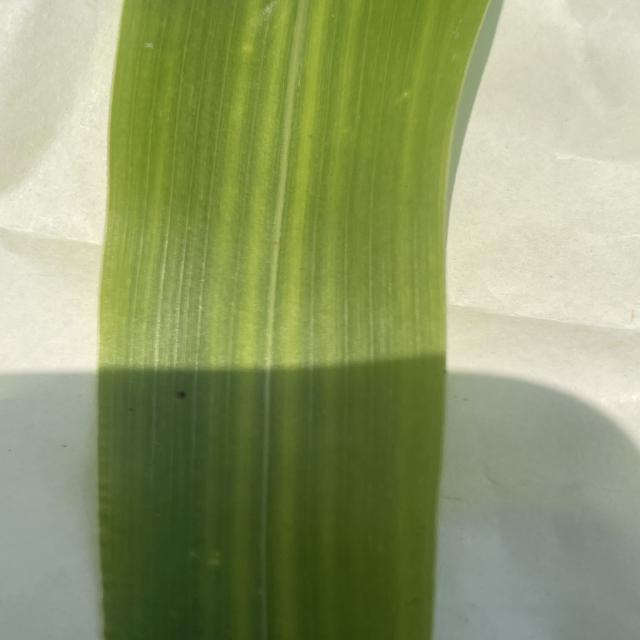millet_healthy: (95, 0, 489, 640)
